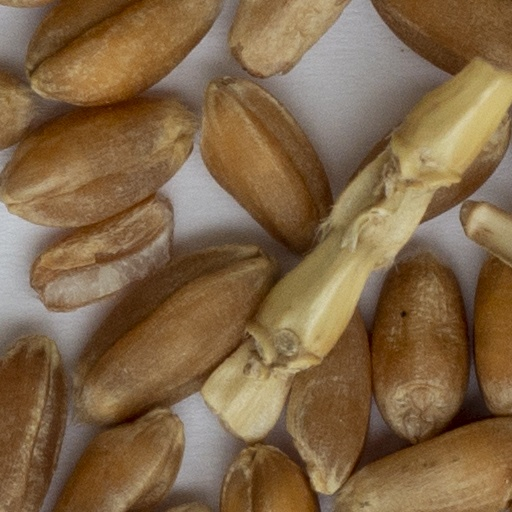Peel-poly: (197, 52, 511, 444), (456, 197, 511, 271)
Wheat-grain-damaged-poly: (29, 191, 174, 312)
Wheat-grain-poly: (195, 71, 329, 244), (228, 0, 357, 81)
